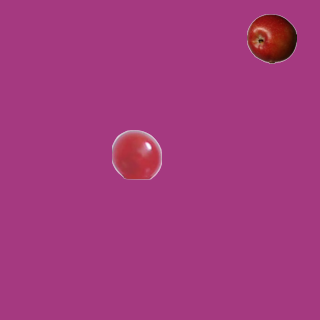Apple Braeburn: (246, 13, 296, 63)
Redcurrant: (111, 129, 161, 179)
